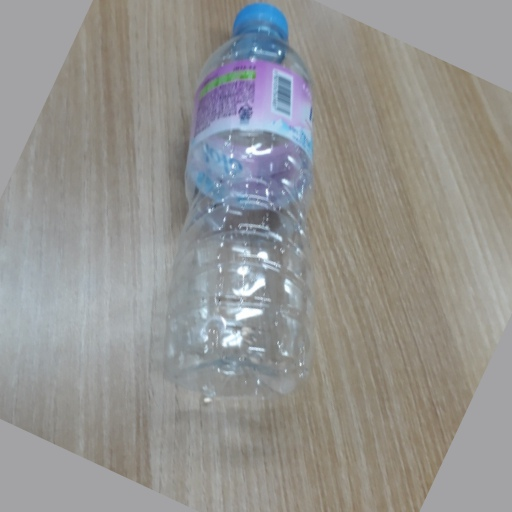Plastic_0: (164, 3, 317, 402)
